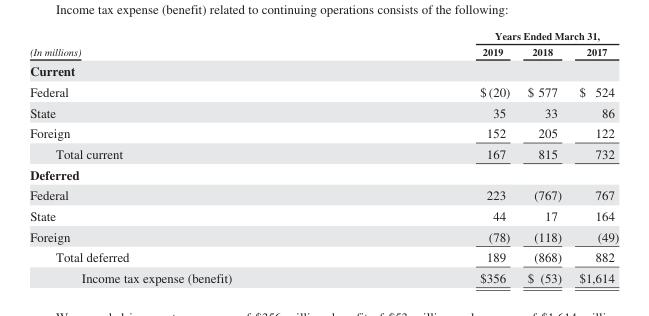table: (29, 29, 618, 284)
table column: (29, 29, 355, 284), (355, 29, 518, 284), (518, 29, 569, 284), (569, 29, 618, 284)
table column header: (29, 29, 618, 59)
table projected row header: (29, 59, 618, 81), (29, 163, 618, 184)
table row: (29, 59, 618, 81), (29, 101, 618, 122), (29, 122, 618, 143), (29, 163, 618, 184), (29, 184, 618, 205), (29, 225, 618, 246), (29, 246, 618, 267), (29, 81, 618, 101), (29, 143, 618, 163), (29, 205, 618, 225), (29, 267, 618, 284), (29, 43, 618, 59), (29, 29, 618, 43)
table spanning cell: (29, 29, 355, 59), (355, 29, 618, 43)
